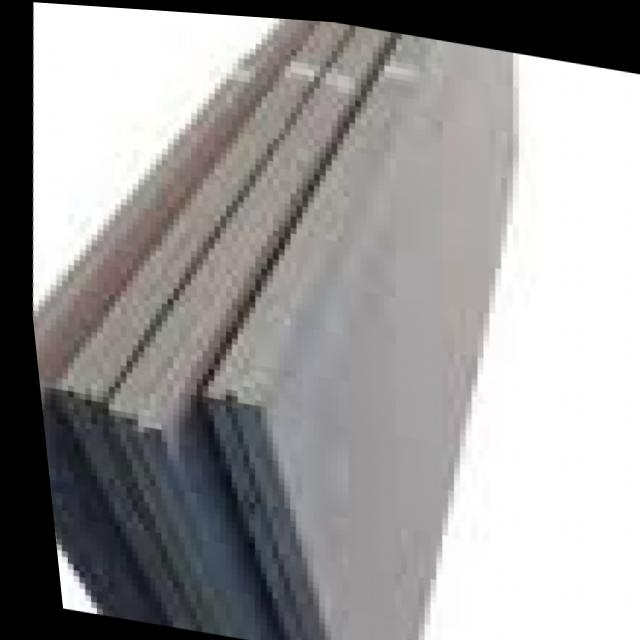metal-plates: (26, 15, 509, 640)
